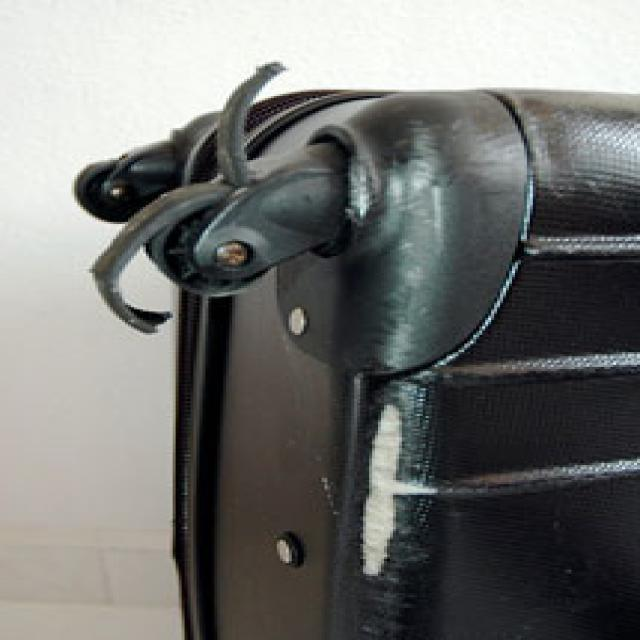Damage-bag: (94, 62, 284, 332), (363, 405, 434, 574)
